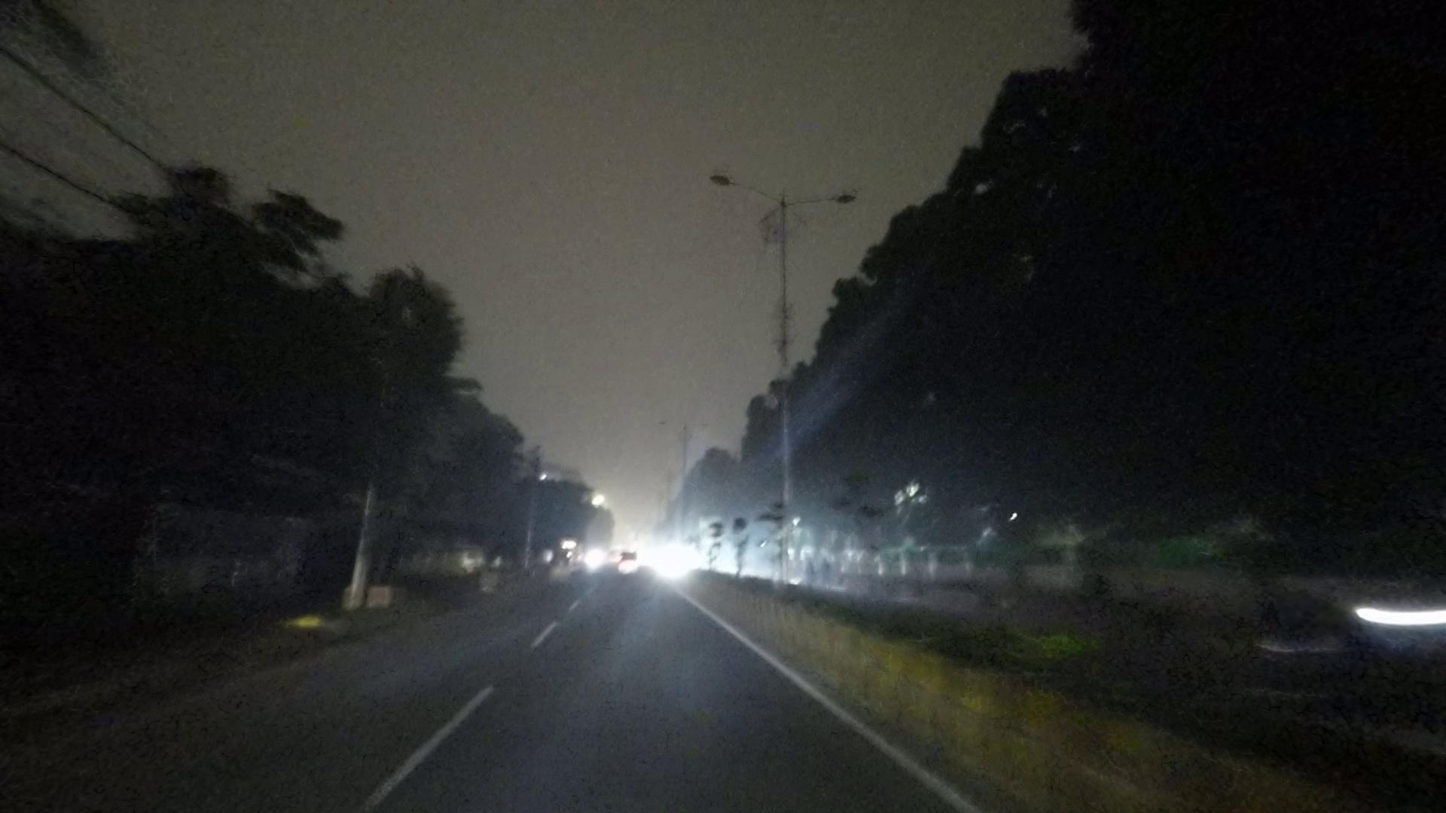streetlight: (708, 166, 777, 204), (789, 188, 858, 213)
